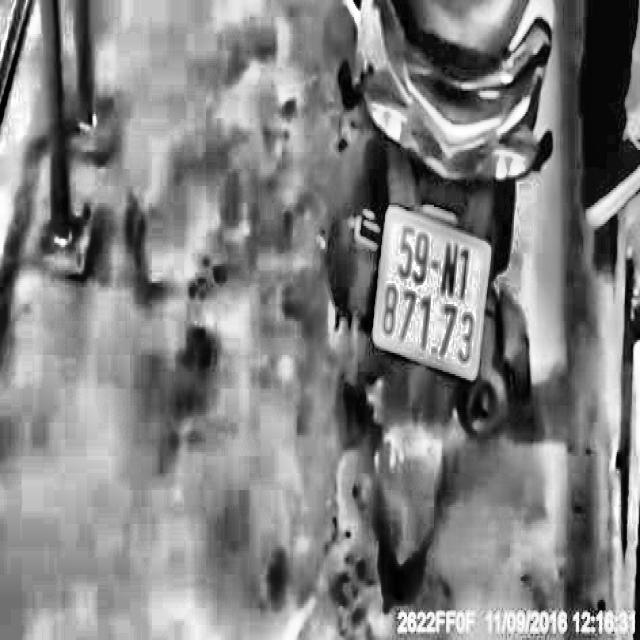plate: (370, 196, 495, 389)
